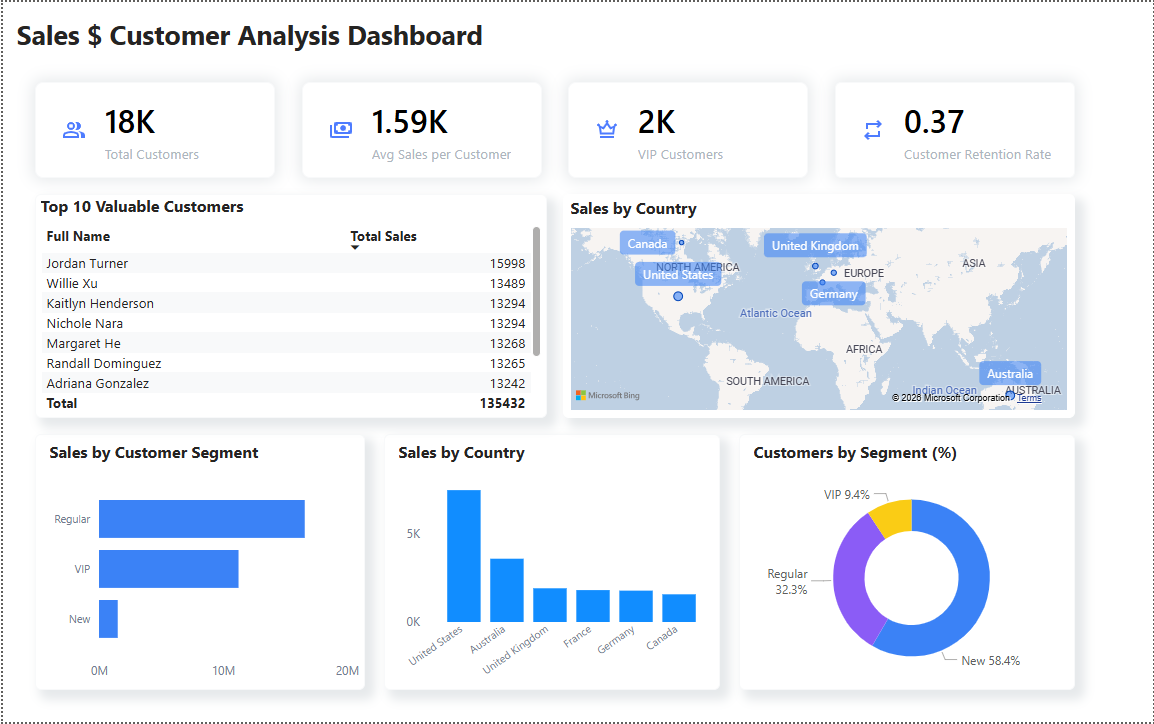

What the dashboard file says about the page in this screenshot:
{"tool":"powerbi","page":{"name":"Customer Analysis","canvas":[1150,720],"ordinal":2},"visuals":[{"type":"textbox","box":[0,0,576,64],"z":0},{"type":"clusteredBarChart","title":"Sales by Customer Segment","fields":{"Category":["gold dim_customers.Customer Segment"],"Y":["Measure.Total Sales"]},"box":[32,432,330,256],"z":1000},{"type":"donutChart","title":"Customers by Segment (%)","fields":{"Category":["gold dim_customers.Customer Segment"],"Y":["Measure.Total Customers"]},"box":[736,432,336,256],"z":2000},{"type":"clusteredColumnChart","title":"Sales by Country","fields":{"Category":["gold dim_customers.country"],"Y":["Measure.Total Customers"]},"box":[381,432,336,256],"z":3000},{"type":"cardVisual","fields":{"Data":["Measure.Total Customers"]},"box":[32,80,240,96],"z":4000},{"type":"cardVisual","fields":{"Data":["Measure.Avg Sales per Customer"]},"box":[298.7,80,240,96],"z":5000},{"type":"cardVisual","fields":{"Data":["Measure.VIP Customers"]},"box":[565.3,80,240,96],"z":6000},{"type":"cardVisual","fields":{"Data":["Measure.Customer Retention Rate"]},"box":[832,80,240,96],"z":7000},{"type":"tableEx","title":"Top 10 Valuable Customers","fields":{"Values":["gold dim_customers.Full Name","Measure.Total Sales"]},"box":[32,192,512,224],"z":8000},{"type":"map","title":"Sales by Country","fields":{"Category":["gold dim_customers.country"],"Size":["Measure.Total Sales"]},"box":[560,192,512,224],"z":9000}]}

Visuals, with their boxes in screenshot pixels (x1, y1, x2, y2), scaled from the page's 1150x720 canvas onto the 1154x724 screenshot:
textbox: <region>0, 0, 578, 64</region>
"Sales by Customer Segment" clusteredBarChart: <region>32, 434, 363, 692</region>
"Customers by Segment (%)" donutChart: <region>739, 434, 1076, 692</region>
"Sales by Country" clusteredColumnChart: <region>382, 434, 719, 692</region>
cardVisual - Measure.Total Customers: <region>32, 80, 273, 177</region>
cardVisual - Measure.Avg Sales per Customer: <region>300, 80, 541, 177</region>
cardVisual - Measure.VIP Customers: <region>567, 80, 808, 177</region>
cardVisual - Measure.Customer Retention Rate: <region>835, 80, 1076, 177</region>
"Top 10 Valuable Customers" tableEx: <region>32, 193, 546, 418</region>
"Sales by Country" map: <region>562, 193, 1076, 418</region>
